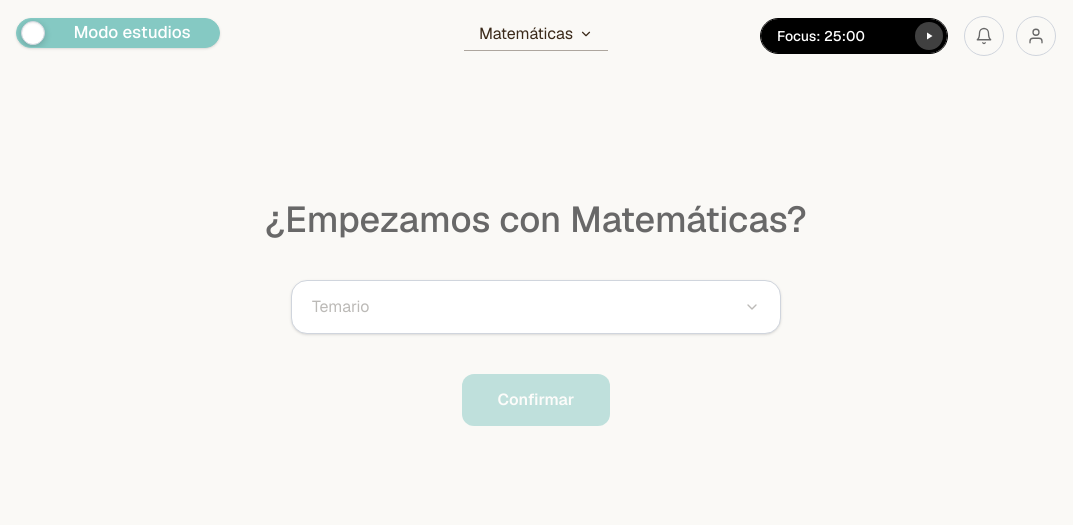
it: Chat — stage de seleção de tópico › should return to the topic stage when the subject changes in the header
What coordinates should you click on to do the following:
click the button with aria-label "Seleccionar tema"
I would click on:
 (341, 306)
Its box is [291, 280, 781, 334].
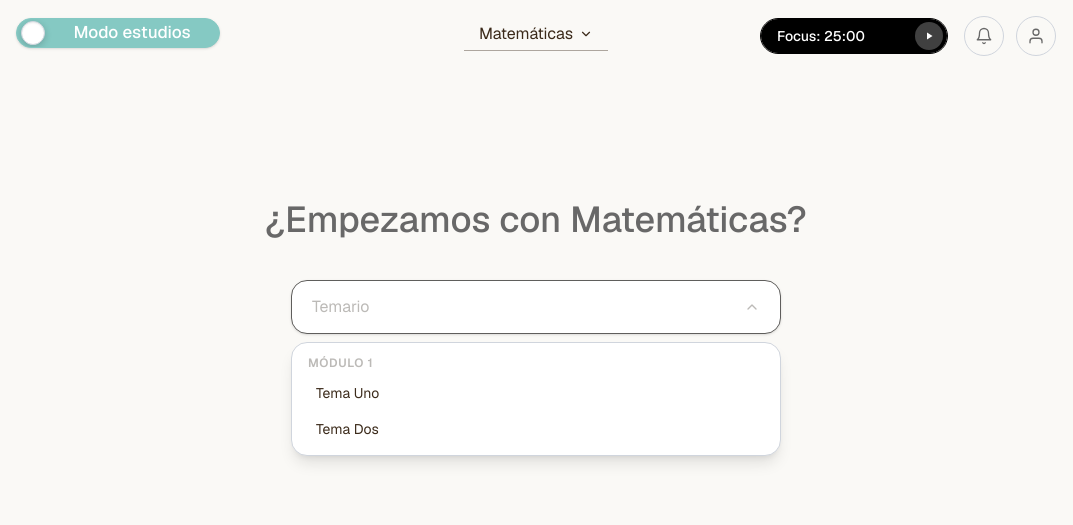
What coordinates should you click on to do the following:
click the button "Tema Uno"
I would click on:
 (348, 393)
Its box is [292, 375, 780, 411].
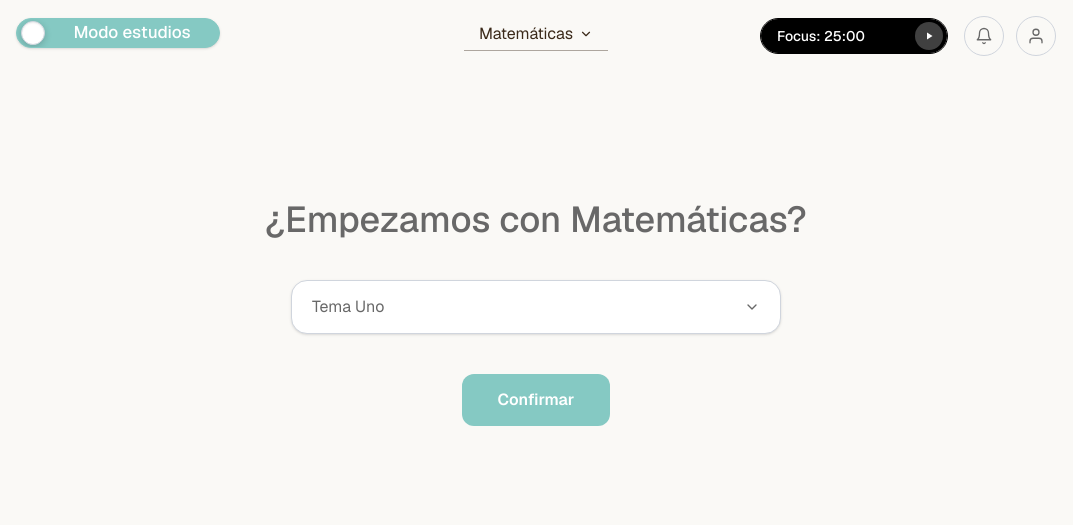
What coordinates should you click on to do the following:
click the button "Confirmar"
I would click on:
 (536, 400)
Its box is [462, 374, 610, 426].
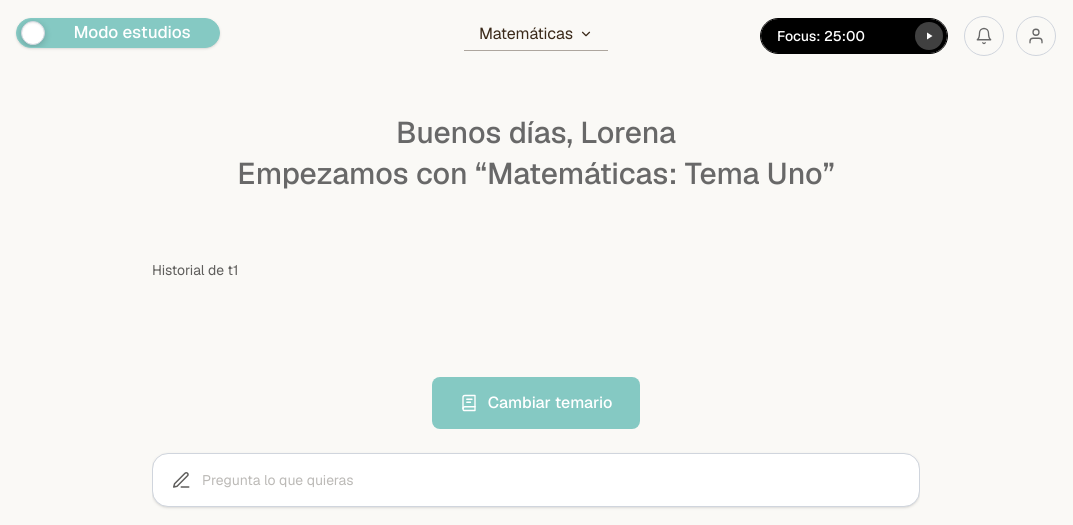
Expected: the text "Historial de t1" is shown, [152, 260, 238, 278]
What coordinates should you click on to do the following:
click the button "Matemáticas"
I would click on:
 (536, 36)
Its box is [464, 22, 608, 50].
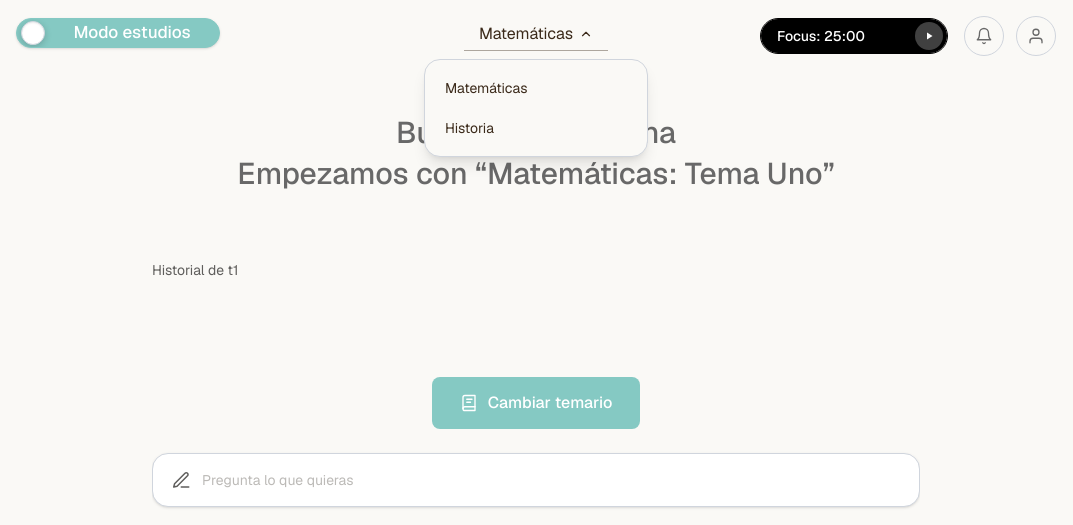
What coordinates should you click on to do the following:
click the button "Historia"
I would click on:
 (536, 128)
Its box is [425, 108, 647, 148].
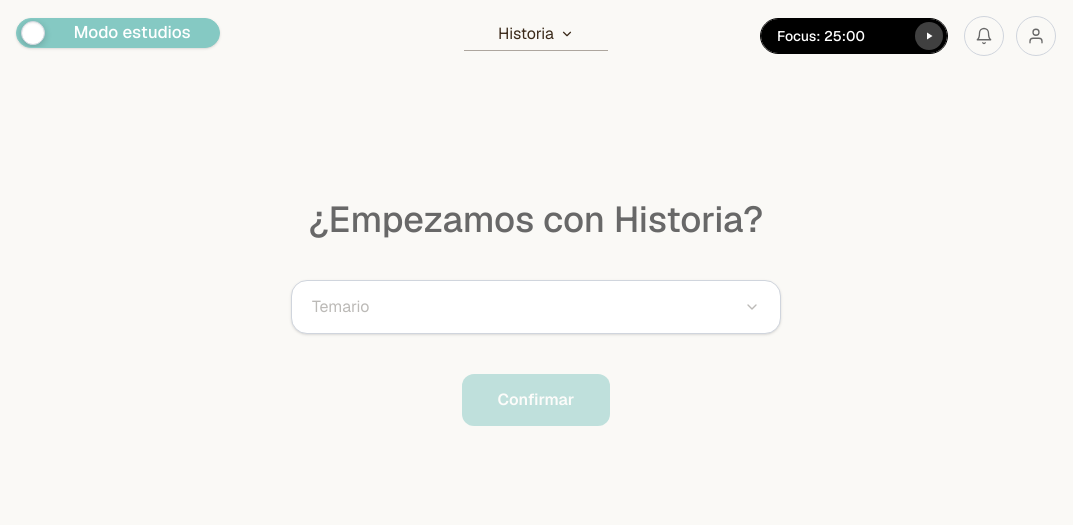
Expected: the heading "¿Empezamos con Historia?" is shown, [309, 200, 763, 240]
Expected: the button "Confirmar" is disabled, [462, 374, 610, 426]
